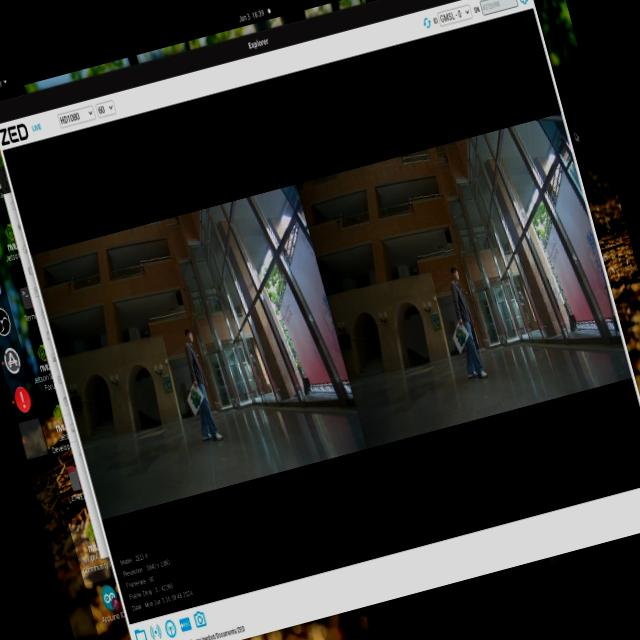green: (182, 378, 210, 414), (452, 319, 472, 349)
